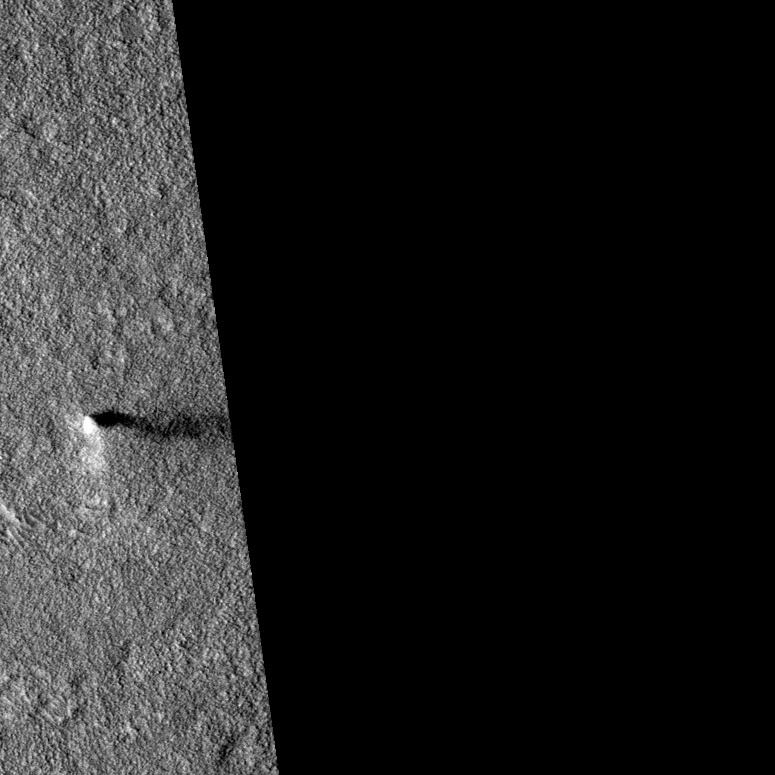dust_devil: (78, 407, 227, 479)
